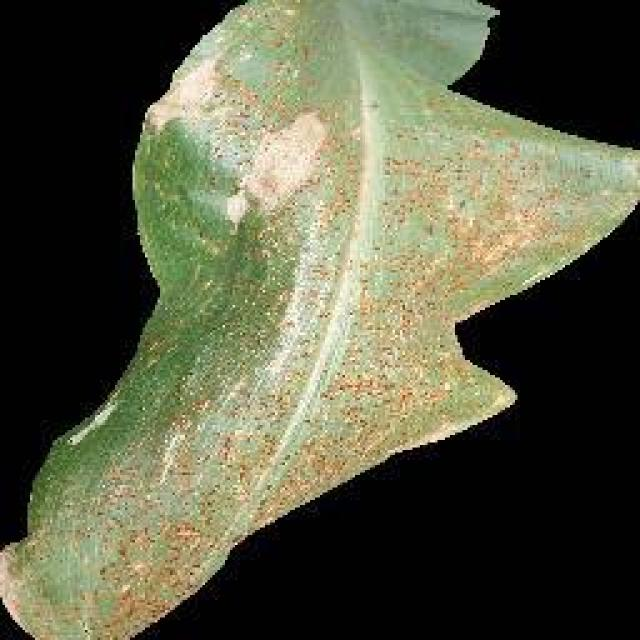Corn Common Rust: (105, 116, 515, 582)
